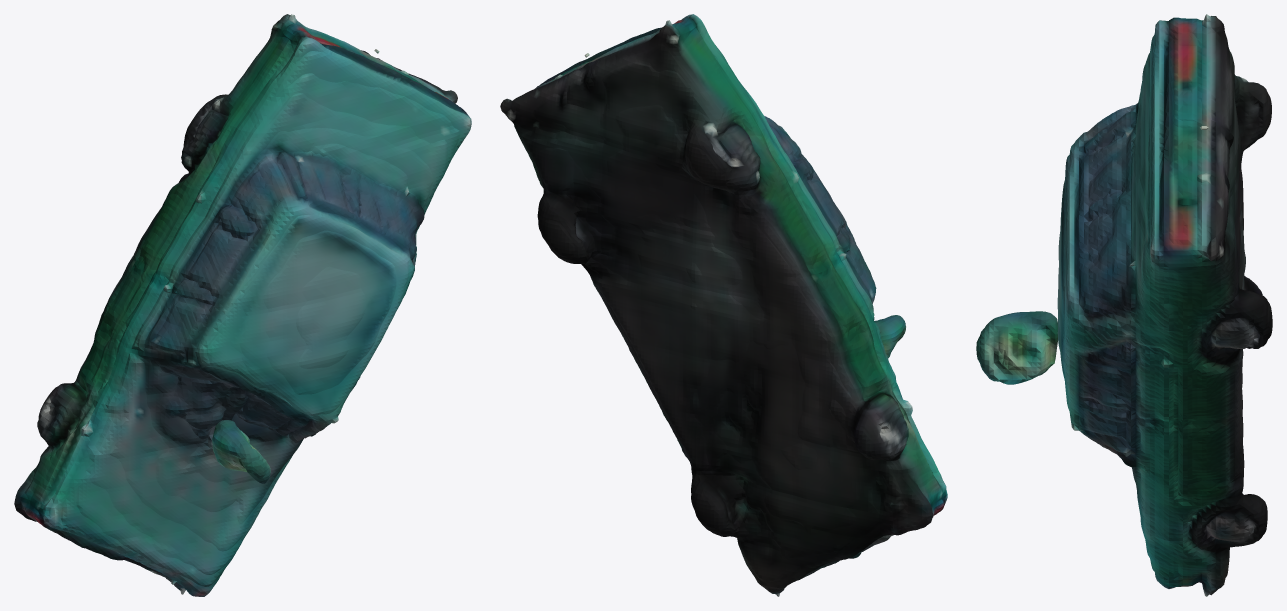
File: asdasdas1717054106.obj
The picture shows the model from 3 angles, left to right: view 1: azimuth 30°, elevation 25°; view 2: azimuth 150°, elevation 25°; view 3: azimuth 270°, elevation 25°; orthographic projection. The views are drawn at different scales.
Size of the model in its own units: 0.8543 by 1.03 by 0.428.
